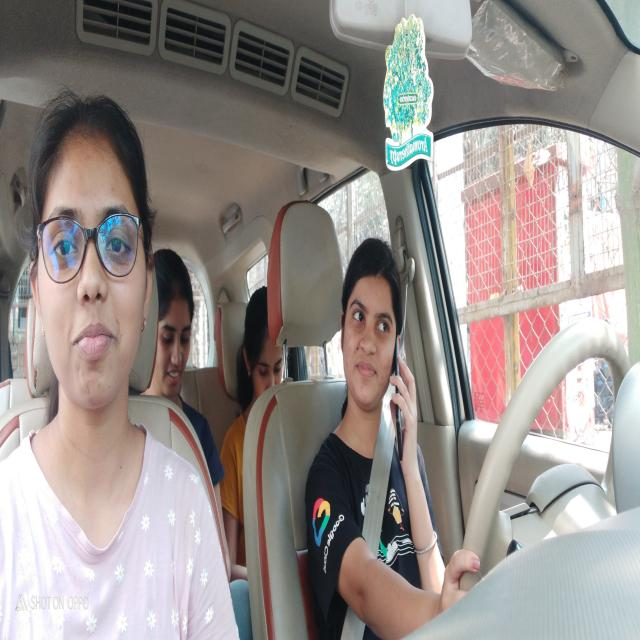mobile: (392, 334, 408, 469)
person: (27, 90, 156, 425), (341, 232, 407, 440), (152, 246, 198, 404), (239, 275, 289, 407)
